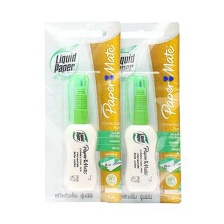book: (101, 18, 182, 204), (41, 20, 122, 204)
correction_fluid: (119, 71, 160, 193), (60, 71, 99, 192)
